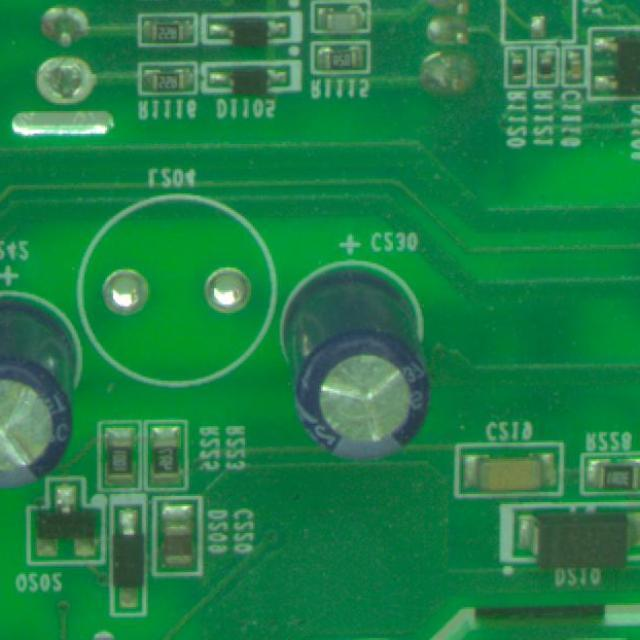Insufficient solder: (37, 54, 105, 116)
